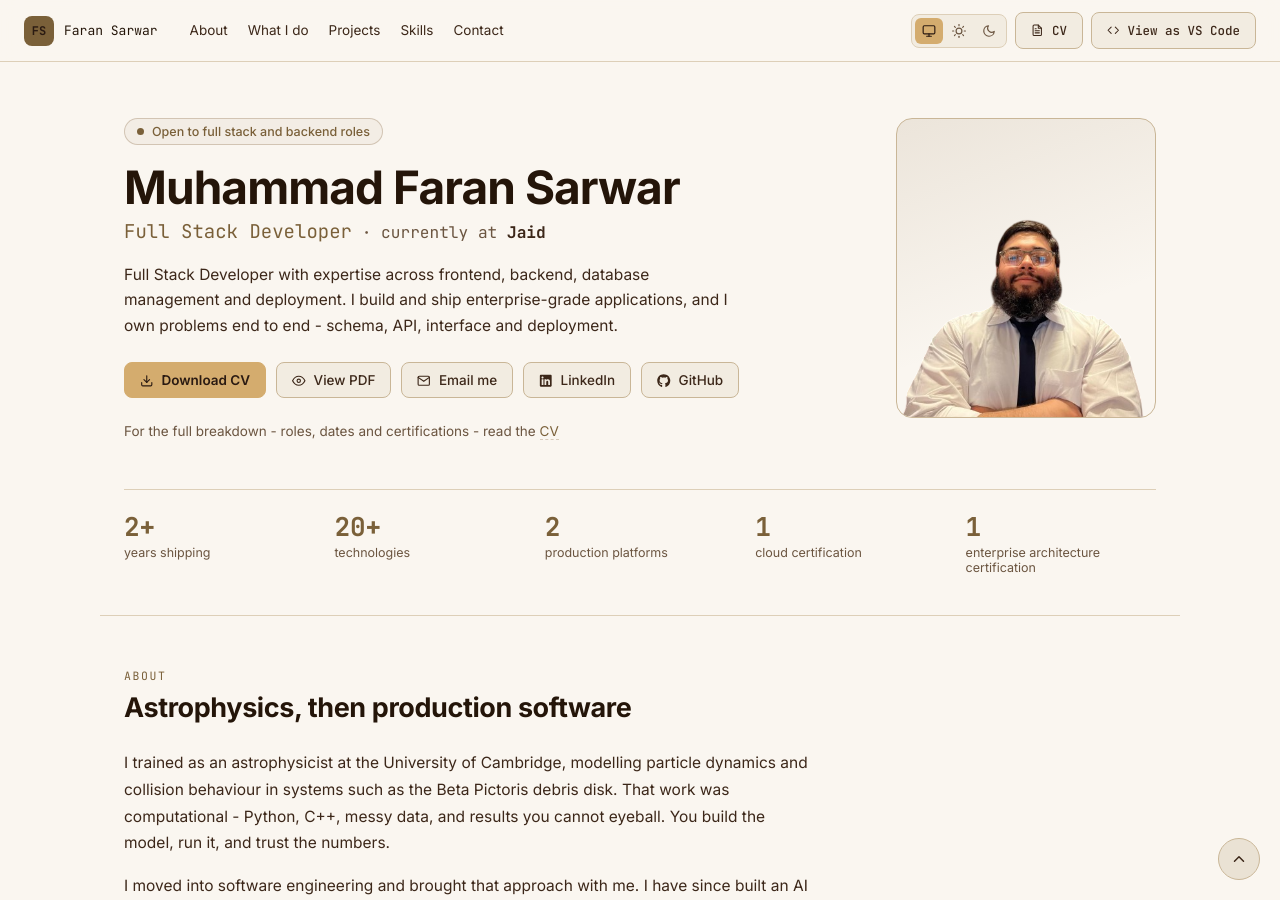
Test: the terminal runs real commands and prints output
Click the button "View as VS Code" at (1174, 30), box [1091,12,1256,49]
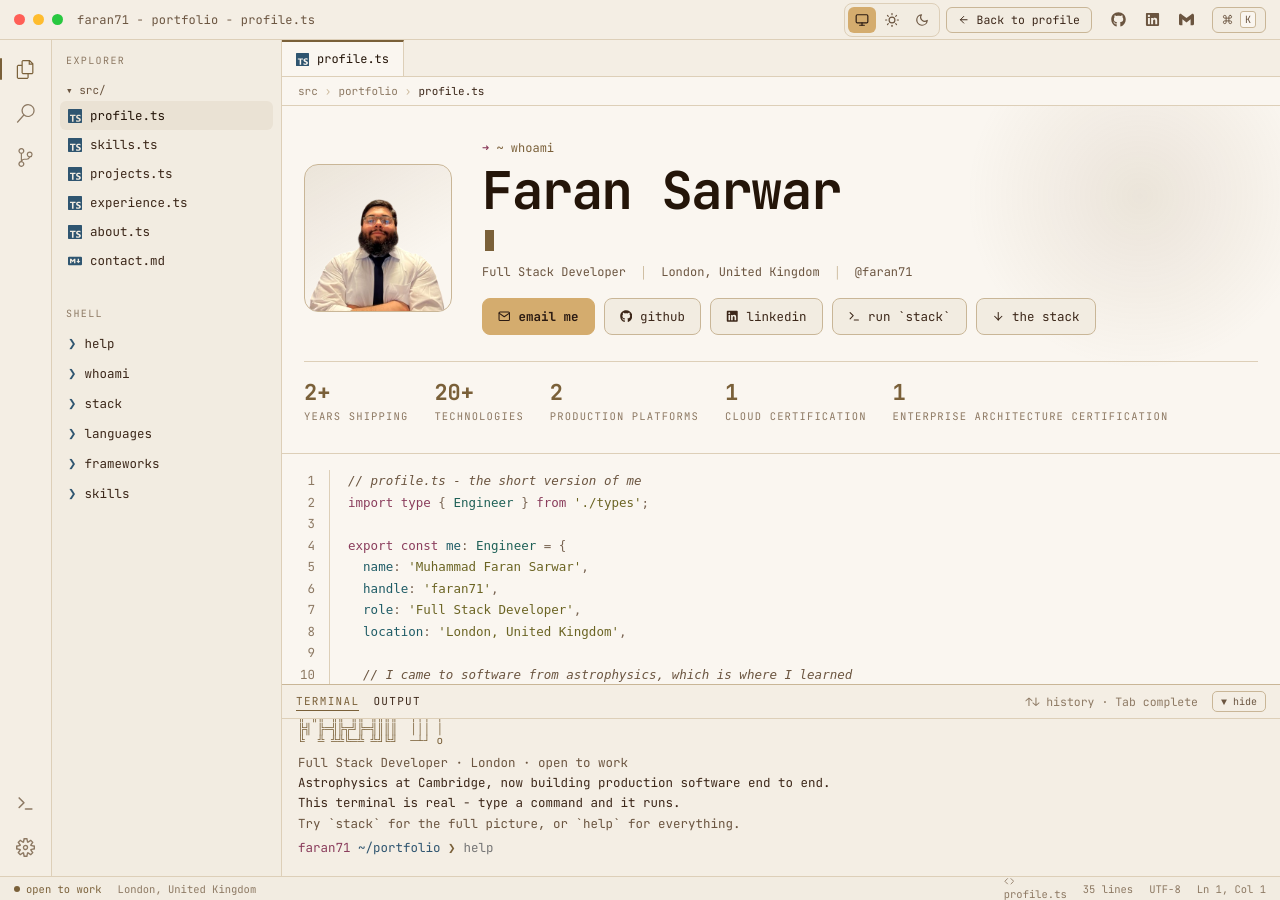
Type "skills react" into the field named "terminal command input" at (864, 847), box [464,839,1264,856]
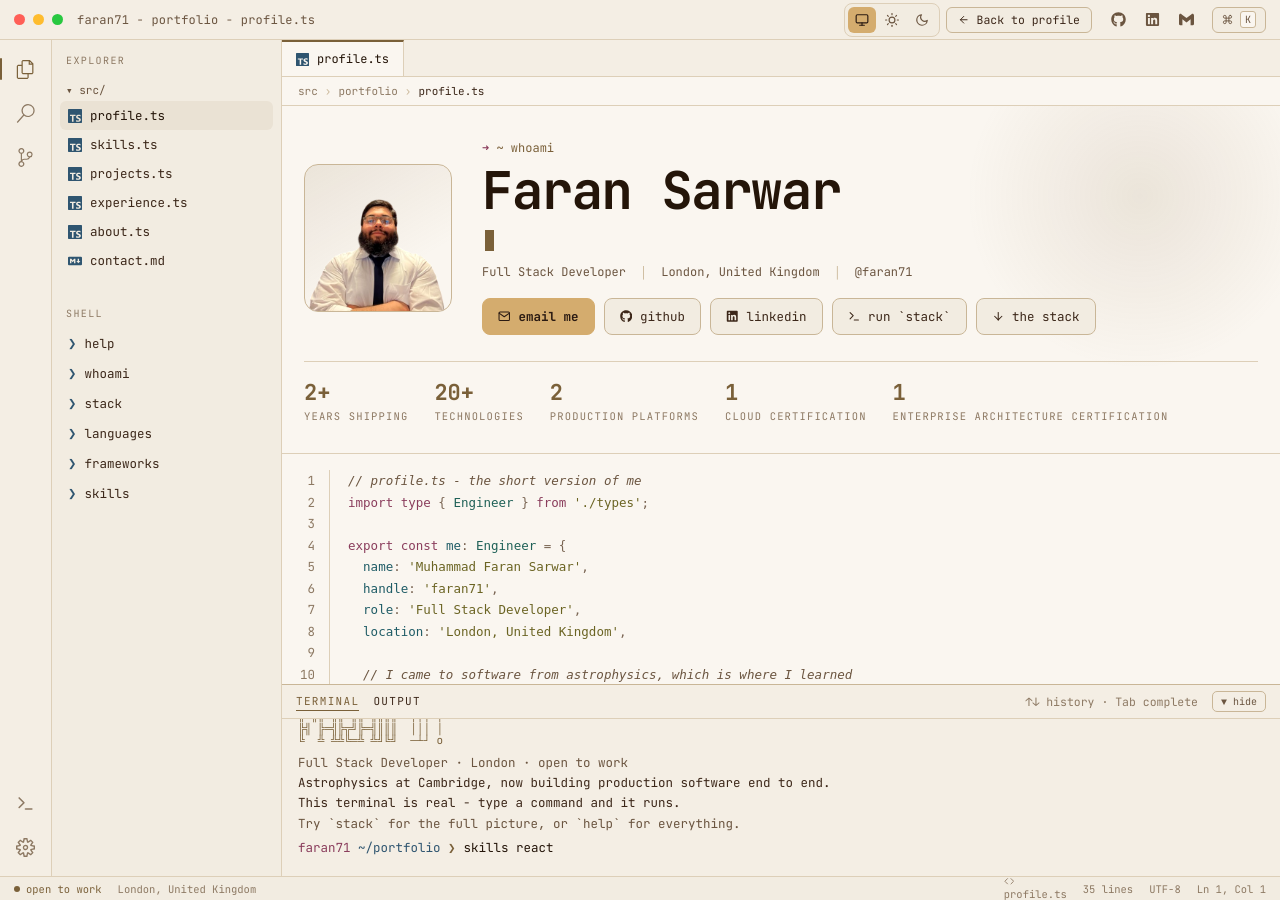
Submit the form named "terminal command input", box [298,838,1264,858]
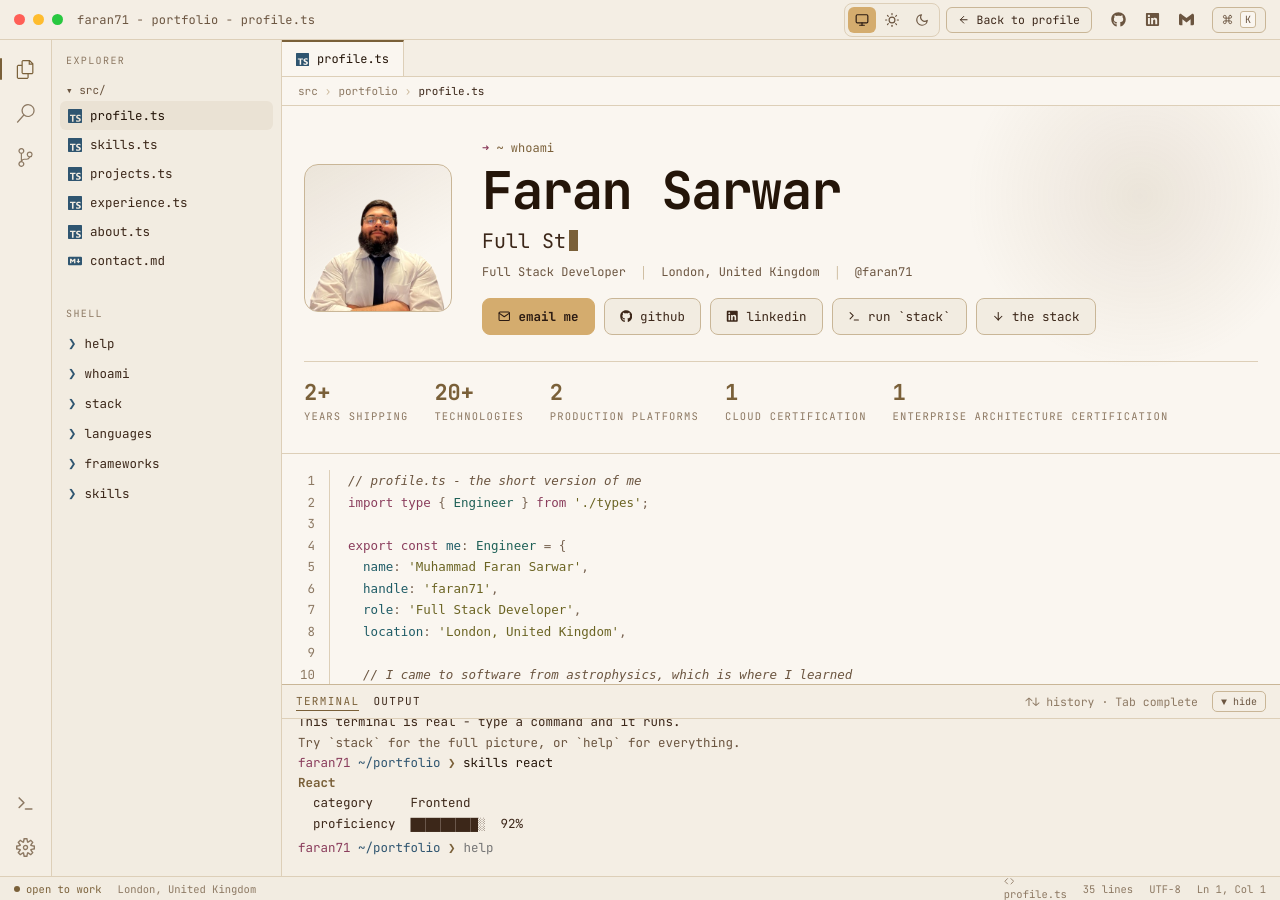
expect the text "skills react" is shown: met, box [463,754,553,771]
expect the text "React" is shown: met, box [298,774,336,791]
expect the text "proficiency █████████░ 92%" is shown: met, box [298,815,523,832]
